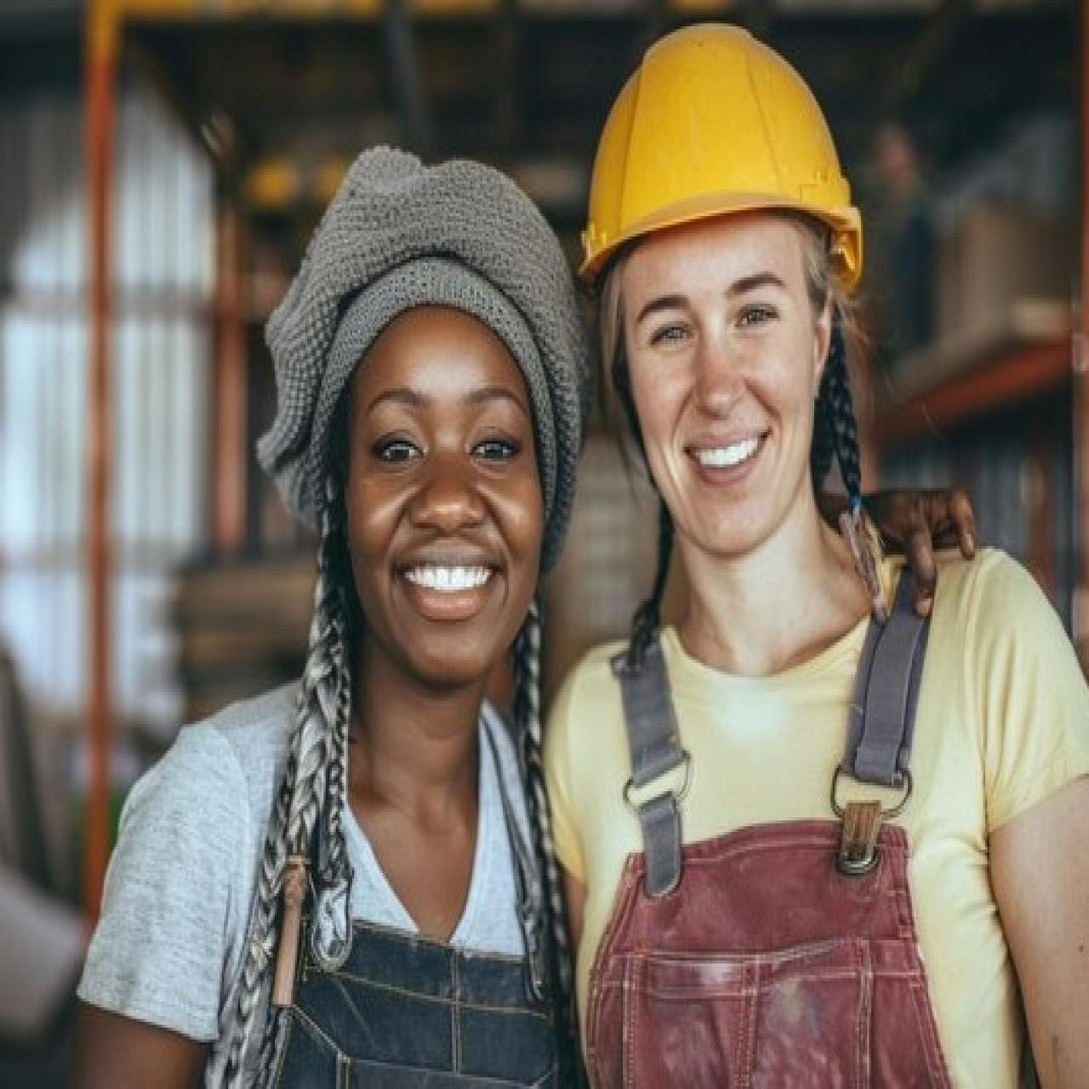NO_Safety_Vest: (560, 549, 1020, 1089), (157, 680, 544, 1089)
Person: (525, 14, 1089, 1089), (49, 109, 591, 1089)
